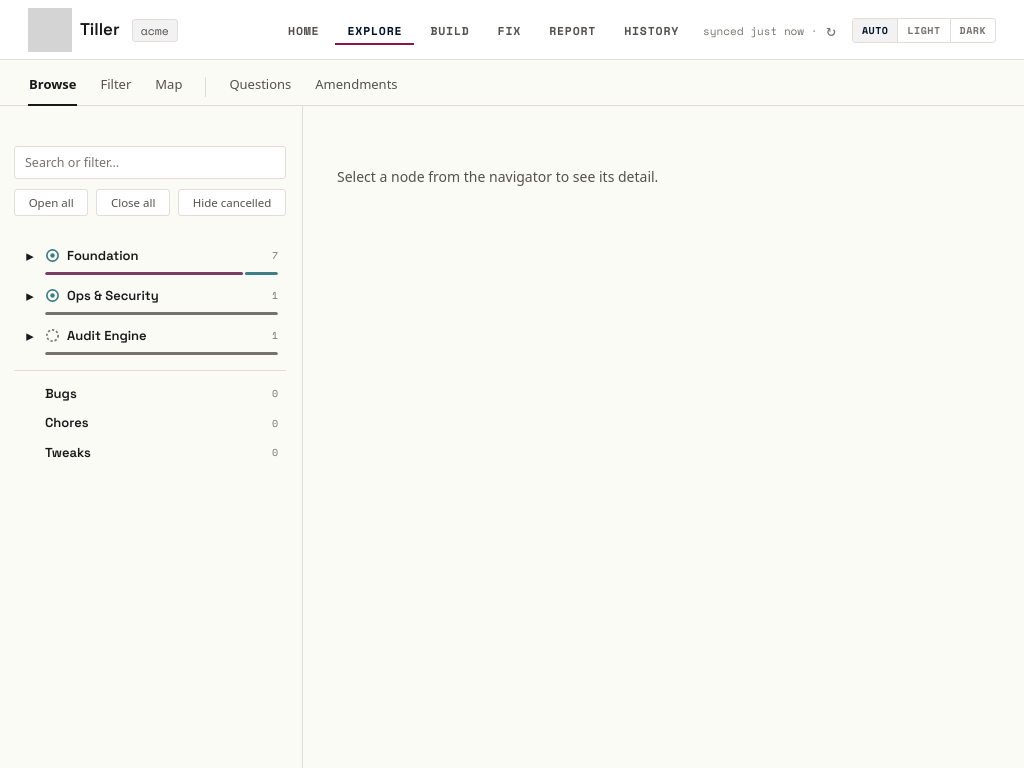
Scenario: Navigator: the third tier, tasks under their feature › reveals a feature's tasks in served order behind its own chevron
Expected: the link "Foundation" is shown, [67, 247, 138, 264]
Step 1. Click the button named "Expand Foundation" → (30, 256), box [22, 245, 38, 267]
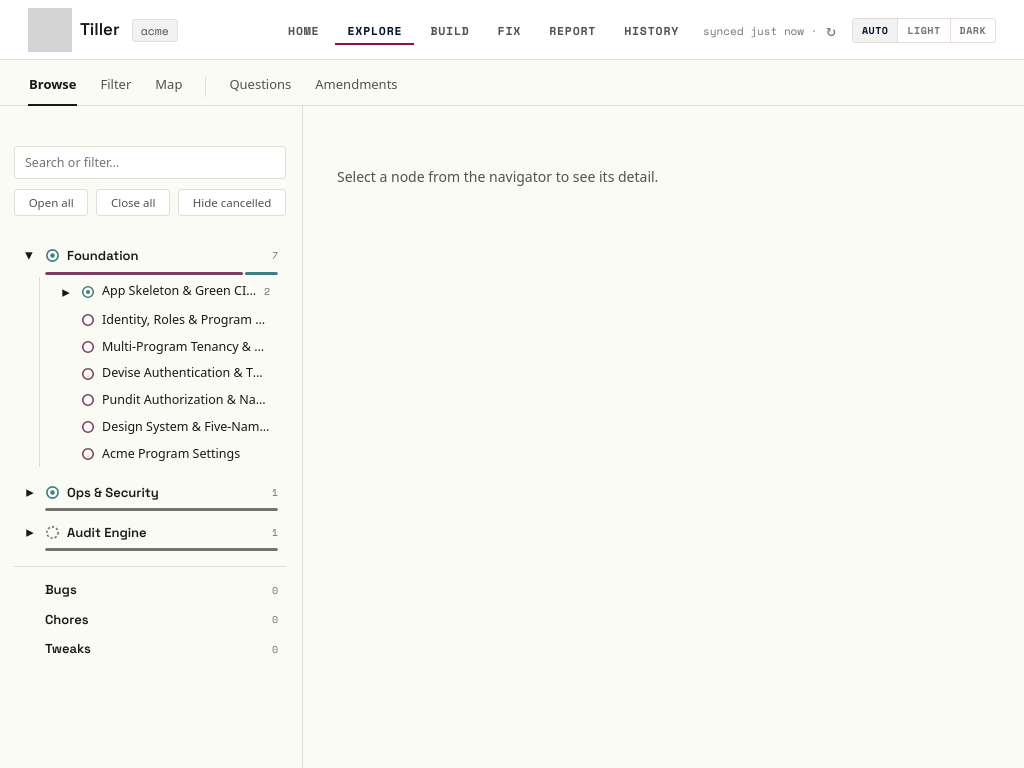
Expected: the text "Boot the app" is not shown
Now the link "App Skeleton & Green CI Boot" is shown, box [102, 282, 257, 301]
Step 2. Click the button named "Expand App Skeleton & Green CI Boot" → (66, 292), box [58, 281, 74, 303]
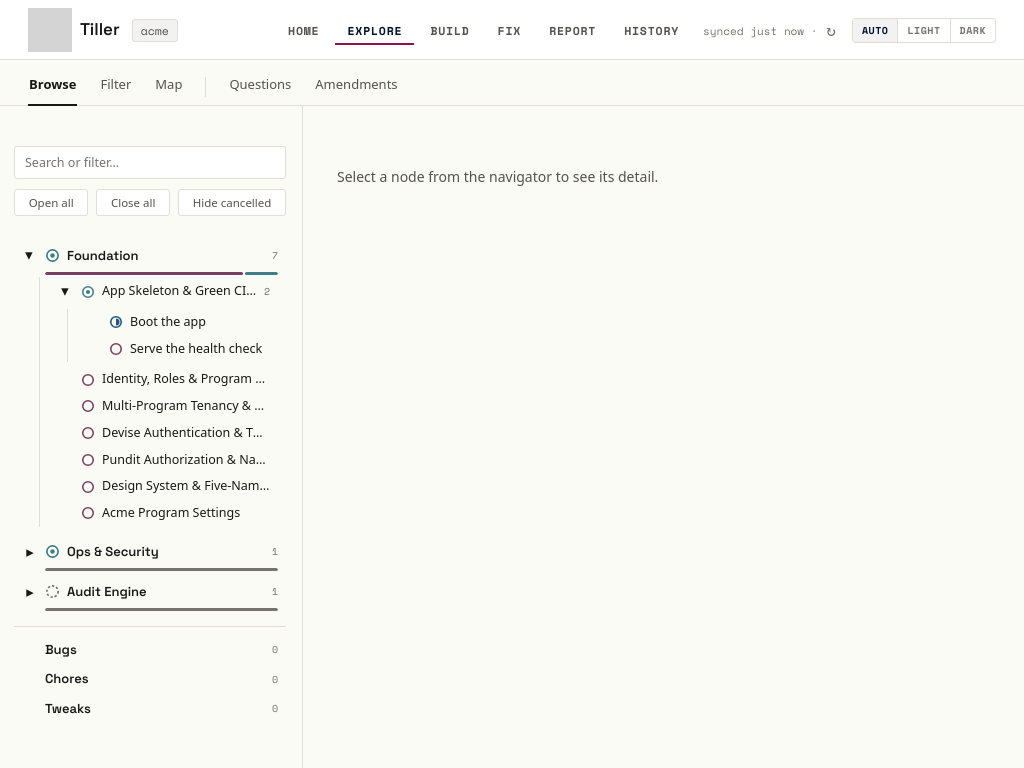
Step 3. Click the button named "Collapse App Skeleton & Green CI Boot" → (66, 292), box [58, 281, 74, 303]
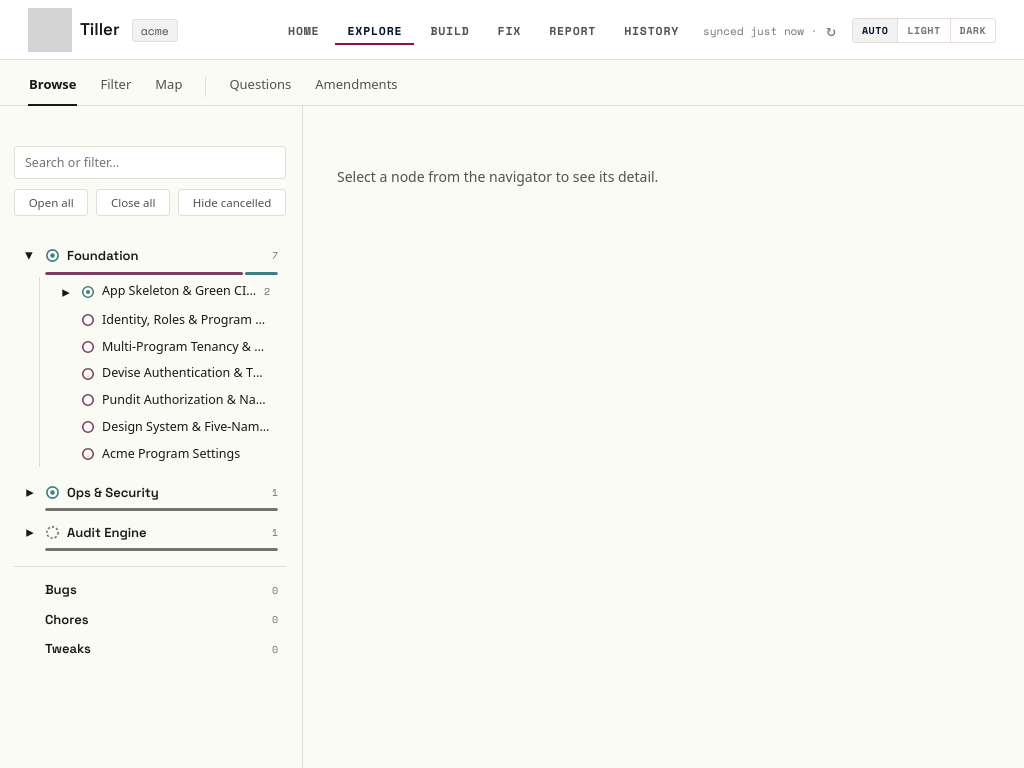
Now the link "App Skeleton & Green CI Boot" is shown, box [102, 282, 257, 301]
Now the link "Boot the app" is gone
